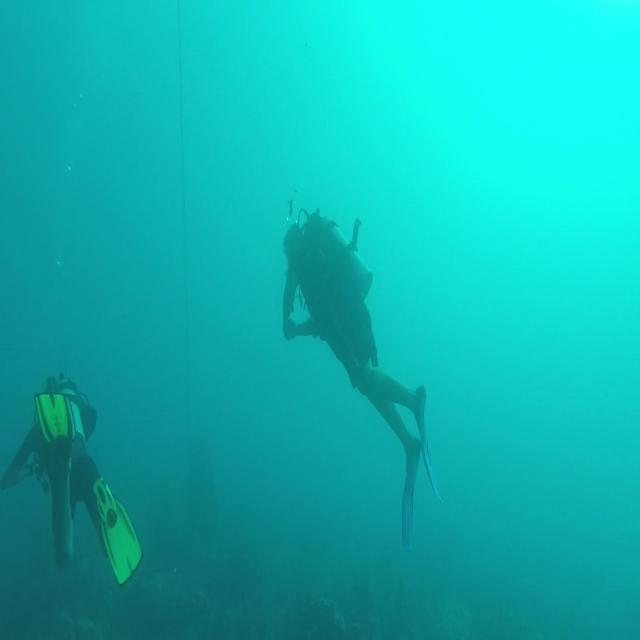human: (282, 206, 444, 551), (1, 371, 142, 585)
